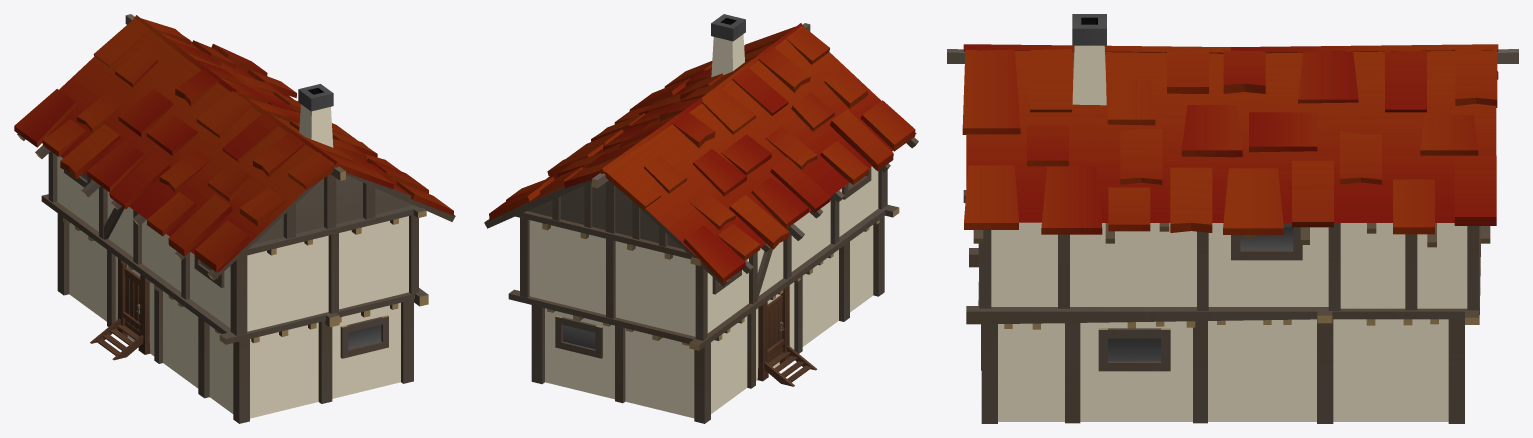
Rendered from House_16.fbx.
The picture shows the model from 3 angles, left to right: view 1: azimuth 30°, elevation 25°; view 2: azimuth 150°, elevation 25°; view 3: azimuth 270°, elevation 25°; orthographic projection. The views are drawn at different scales.
Parts seen in each view (by area): view 1: polySurface9625; view 2: polySurface9625; view 3: polySurface9625.
Boxes of the visible parts, x1,y1,x2,y2 form: polySurface9625: (14, 14, 455, 423); polySurface9625: (484, 14, 918, 423); polySurface9625: (947, 14, 1518, 423).
Bounding box in the file's own units: 924 × 959 × 1361.
